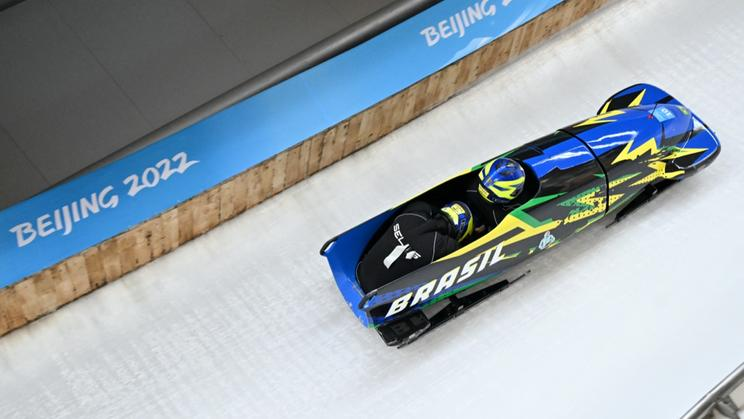Bobsleigh: (325, 83, 722, 347)
